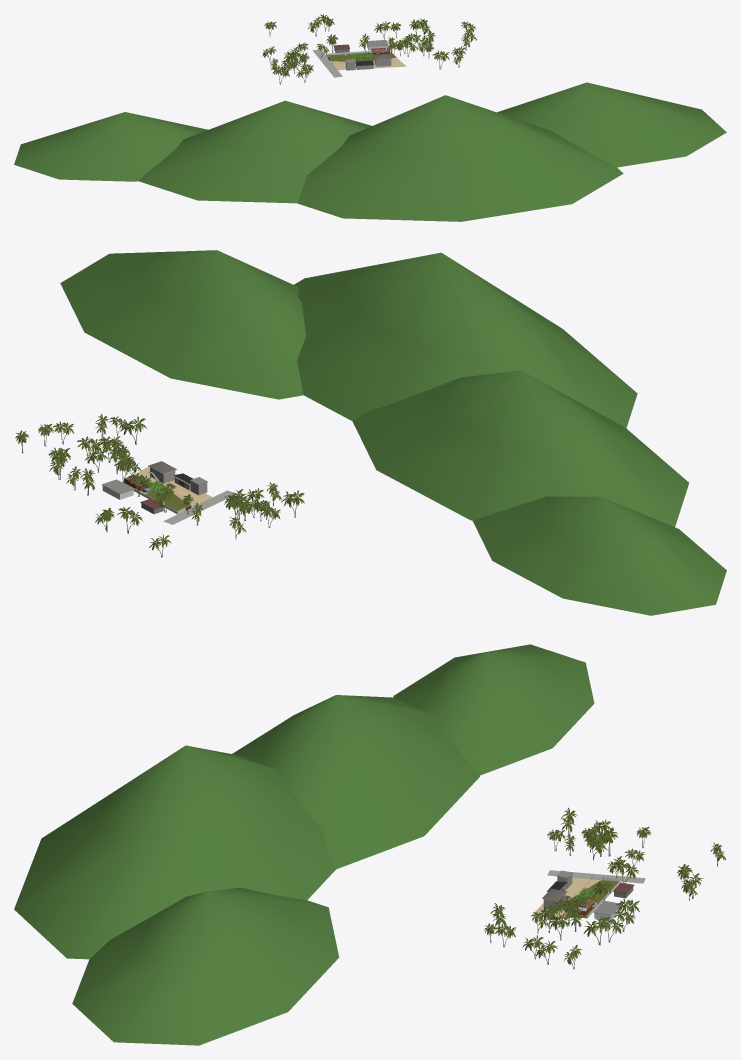
The model's file is site.glb.
3 views of the same model, one above another, from view 1: azimuth 30°, elevation 25°; view 2: azimuth 150°, elevation 25°; view 3: azimuth 270°, elevation 25° (orthographic). The views are drawn at different scales.
Visible parts, largest first — view 1: Mesh_693, Mesh_692, Mesh_694, Mesh_695, LM_Ground; view 2: Mesh_693, Mesh_692, Mesh_694, Mesh_695, LM_Ground; view 3: Mesh_693, Mesh_694, Mesh_692, Mesh_695, LM_Ground.
Part boxes in pixels (x1=…): Mesh_693: x1=297, y1=95, x2=623, y2=221; Mesh_692: x1=138, y1=100, x2=371, y2=203; Mesh_694: x1=497, y1=82, x2=726, y2=167; Mesh_695: x1=14, y1=112, x2=208, y2=181; LM_Ground: x1=312, y1=49, x2=406, y2=77; Mesh_693: x1=294, y1=252, x2=637, y2=428; Mesh_692: x1=352, y1=370, x2=688, y2=526; Mesh_694: x1=60, y1=250, x2=305, y2=399; Mesh_695: x1=472, y1=496, x2=726, y2=615; LM_Ground: x1=122, y1=464, x2=234, y2=524; Mesh_693: x1=14, y1=745, x2=335, y2=959; Mesh_694: x1=72, y1=887, x2=339, y2=1045; Mesh_692: x1=232, y1=695, x2=479, y2=869; Mesh_695: x1=393, y1=644, x2=594, y2=775; LM_Ground: x1=531, y1=870, x2=645, y2=918.
Size of what is drawn, in the model's own units: 514 by 70 by 386.
Materials: 54 (23 with a texture image).
